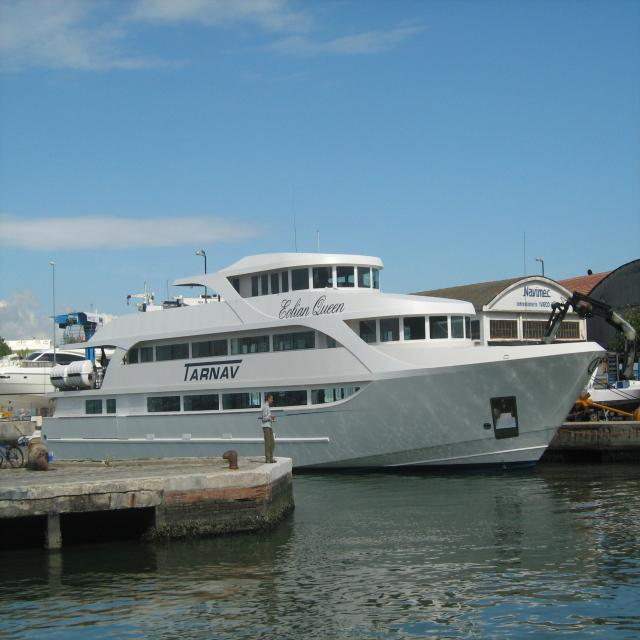cargoship: (37, 242, 603, 472)
